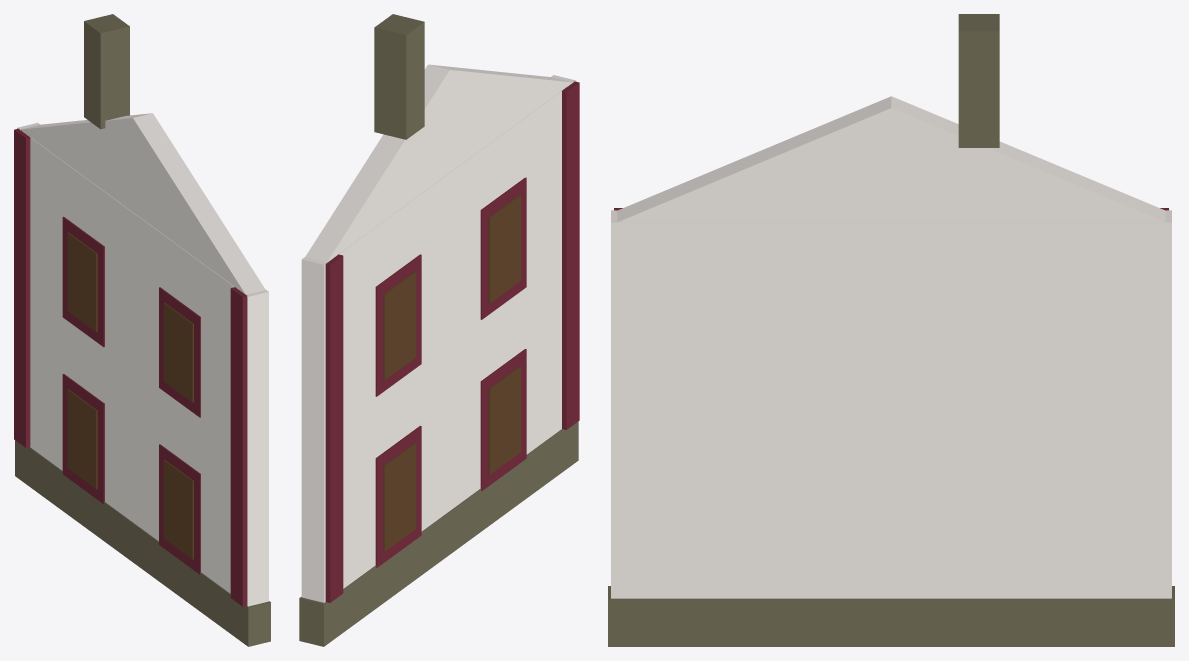
The model's file is SM_KitRemate_v5_LOD0.fbx.
3 renders of one model, left to right at view 1: azimuth 30°, elevation 25°; view 2: azimuth 150°, elevation 25°; view 3: azimuth 270°, elevation 25°, orthographic. The views are drawn at different scales.
Parts seen in each view (by area): view 1: SM_bloques.kit_remate_v5_LOD0; view 2: SM_bloques.kit_remate_v5_LOD0; view 3: SM_bloques.kit_remate_v5_LOD0.
Part boxes in pixels (x1,y1,x2,y2): SM_bloques.kit_remate_v5_LOD0: [14, 14, 270, 646]; SM_bloques.kit_remate_v5_LOD0: [299, 14, 579, 646]; SM_bloques.kit_remate_v5_LOD0: [608, 14, 1174, 646].
Bounding box in the file's own units: 0.7 × 11.66 × 9.7.
